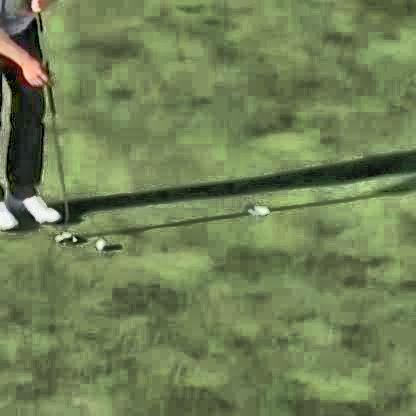golfball: (94, 237, 104, 247)
